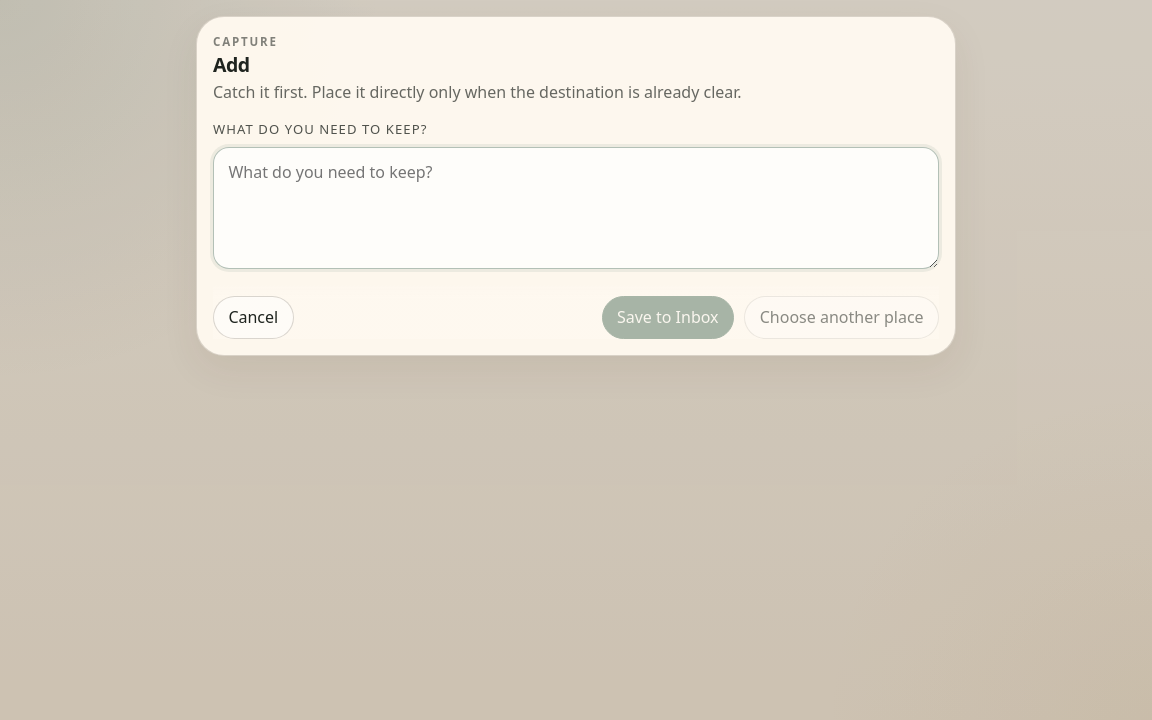
Scenario: QuickAddDialog › can switch to creating a new list directly from the destination picker
Type "Eggs" into the text box with placeholder "What do you need to keep?".
click(576, 208); type("Eggs")  # box [213,147,939,269]
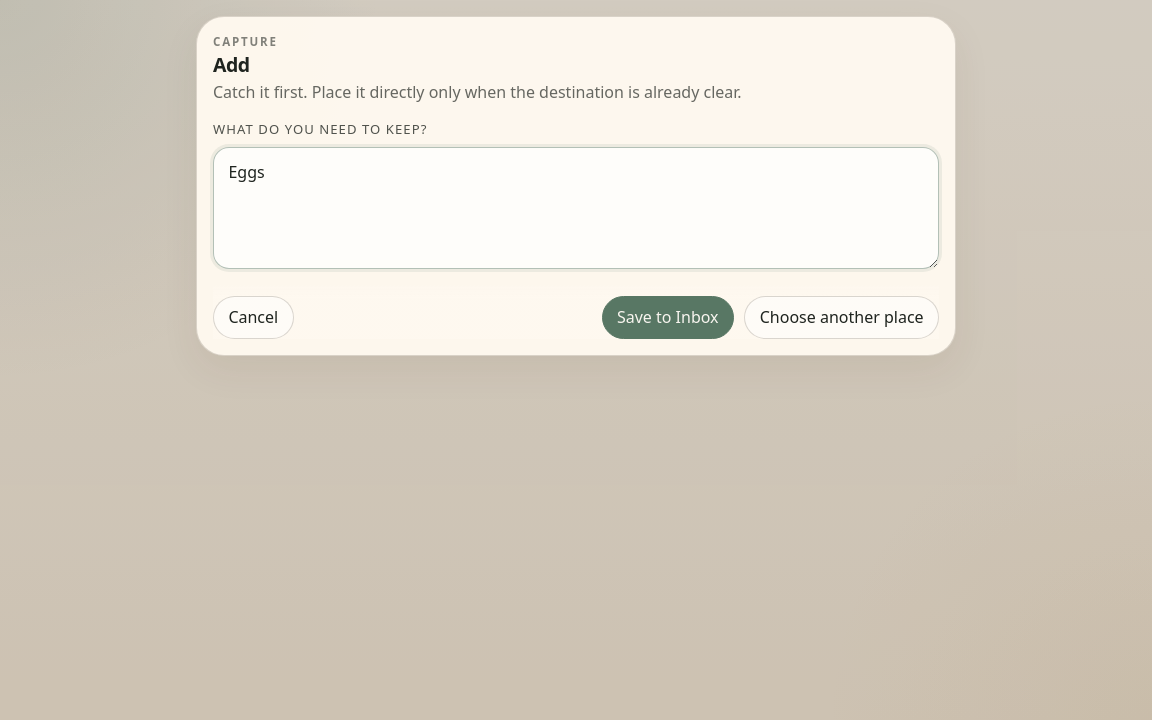
Click the button "Choose another place".
click(842, 317)  # box [744,296,939,339]
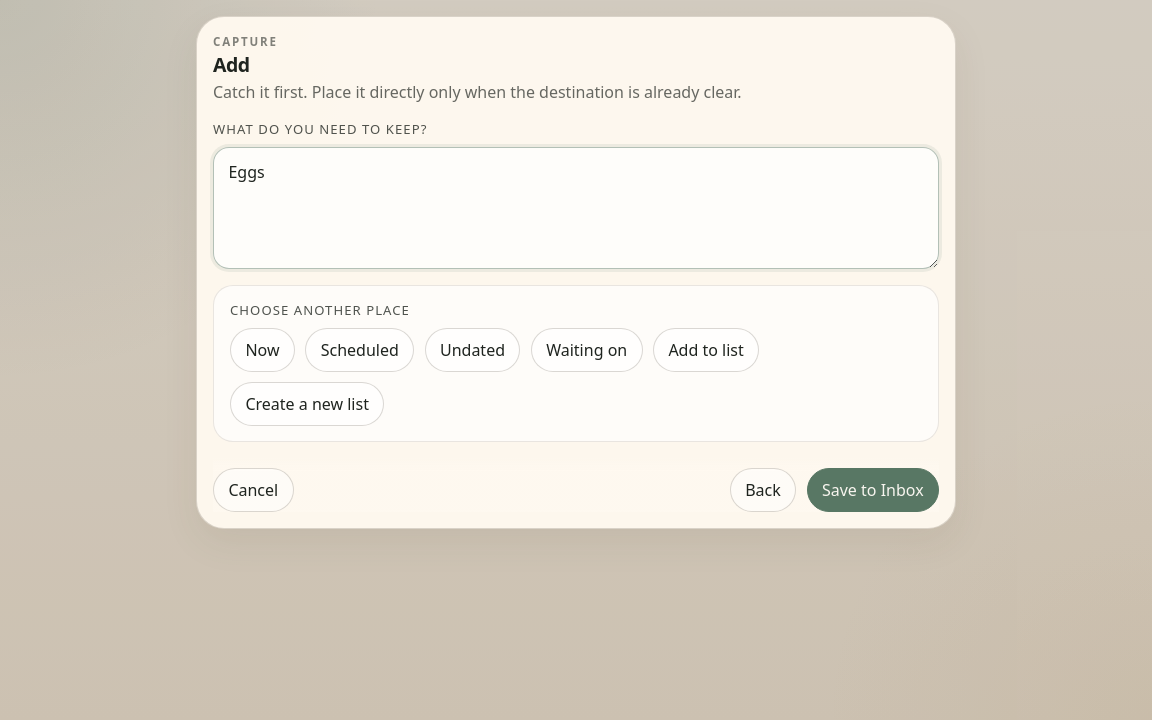
Click the button "Create a new list".
click(307, 404)  # box [230,382,384,426]
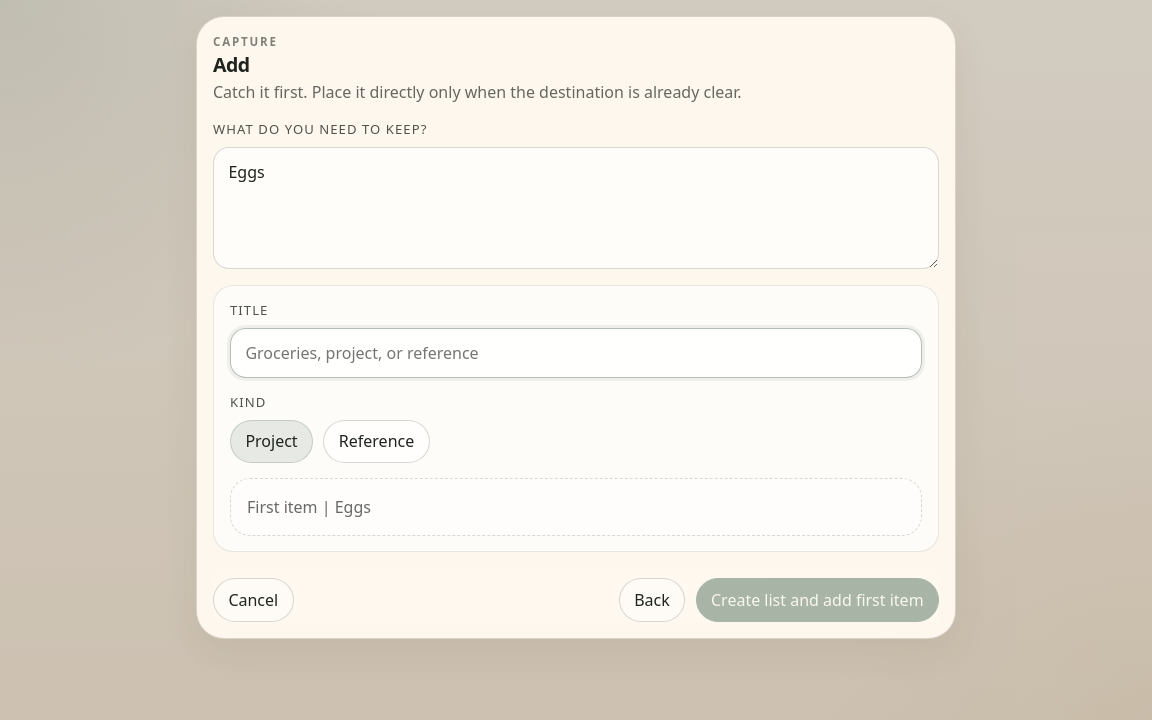
Now the field labelled "Title" is shown, box [230,328,922,378]
